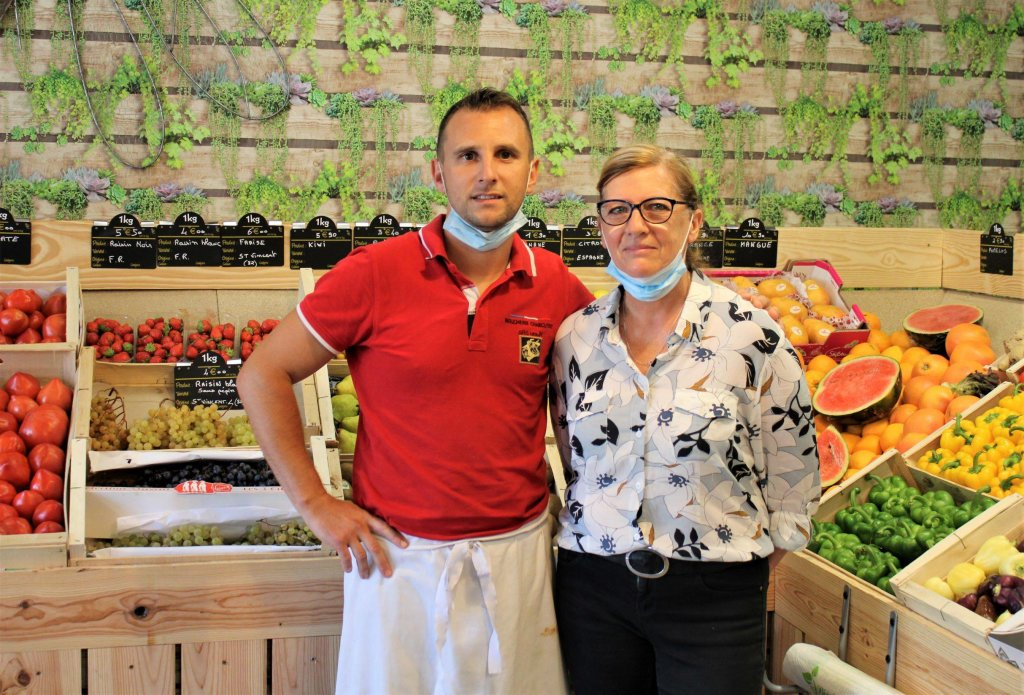with_incorrect_mask: (442, 116, 531, 236), (597, 188, 689, 292)
